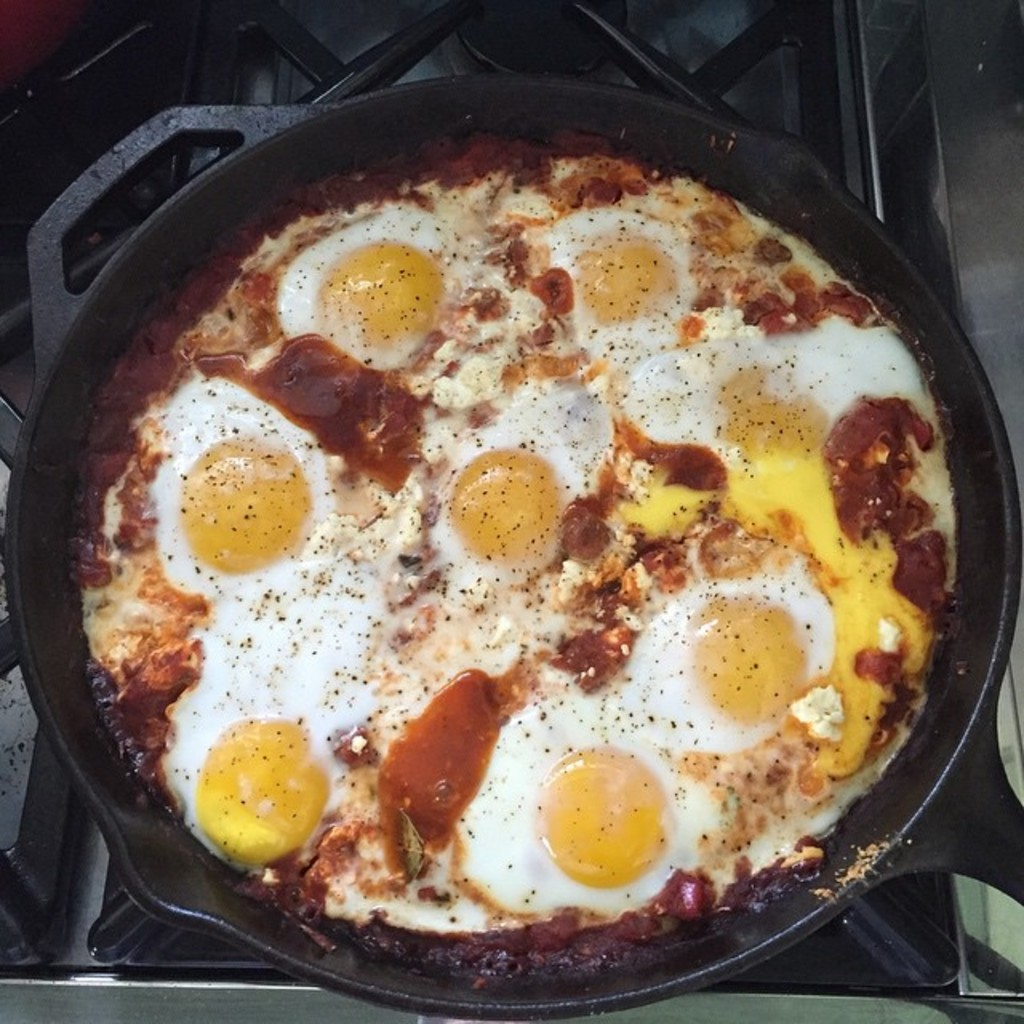Pizza: (68, 115, 972, 931)
